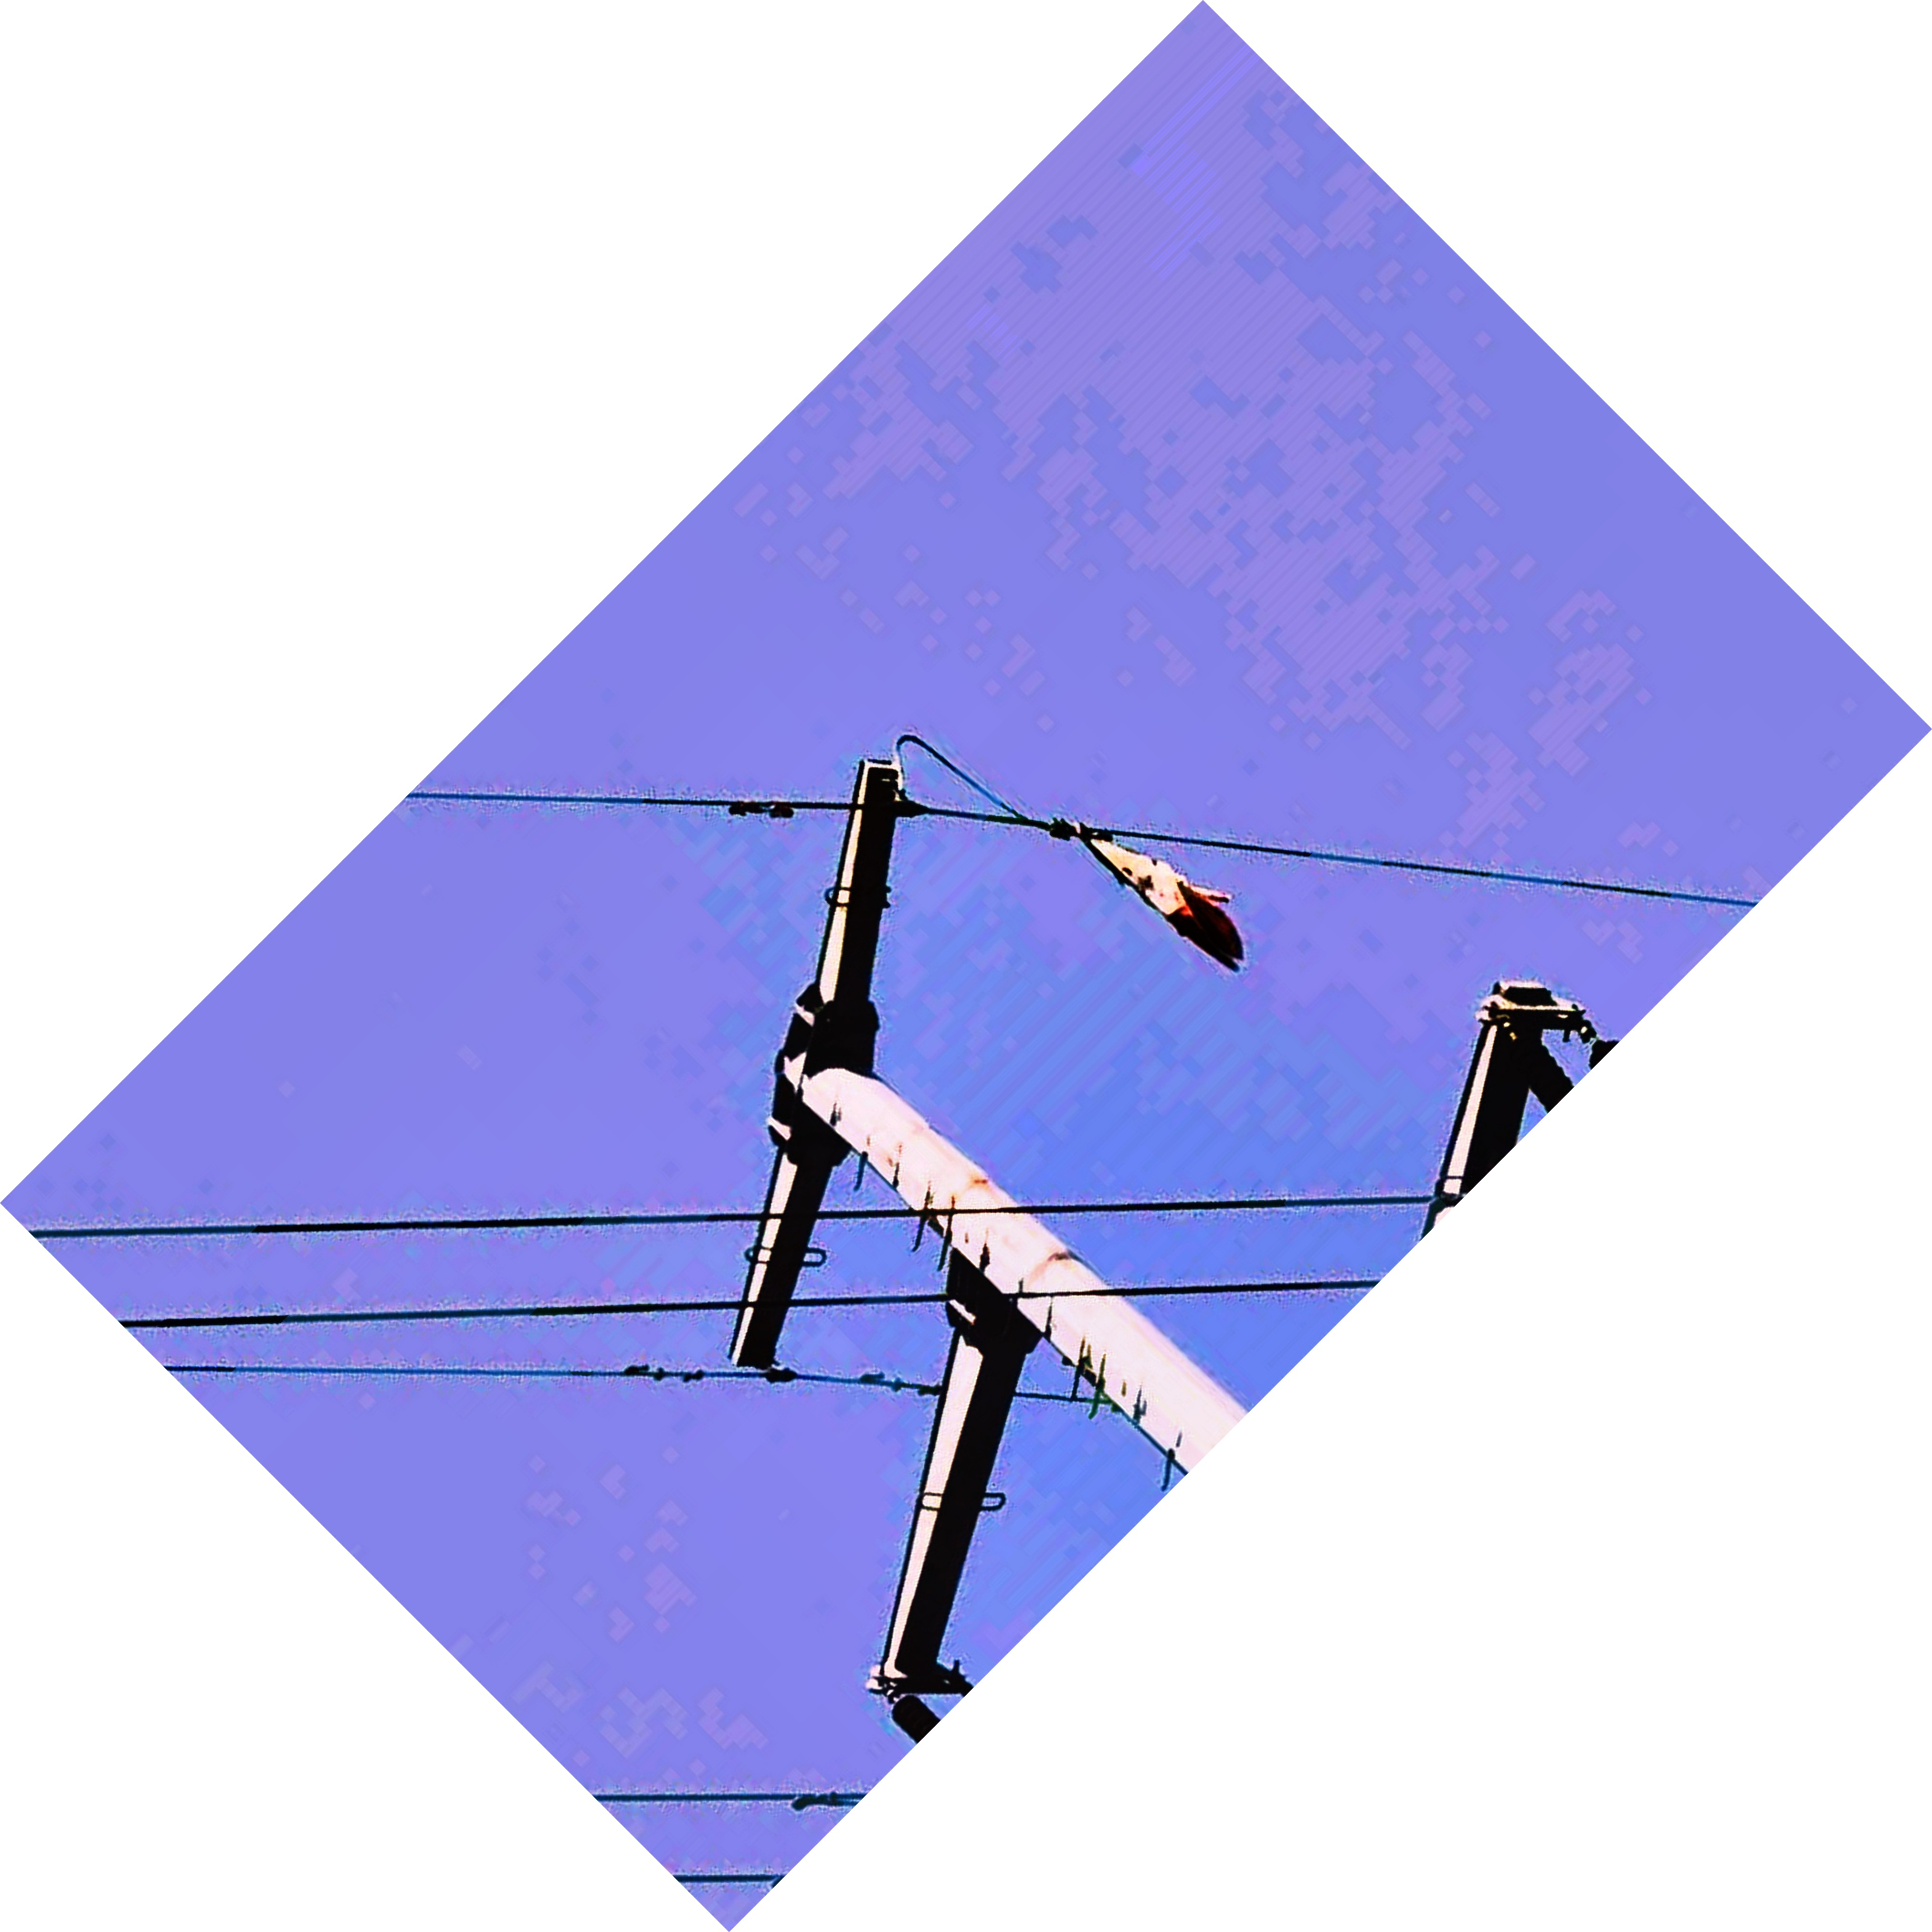wire foreign body: (1049, 793, 1288, 980)
